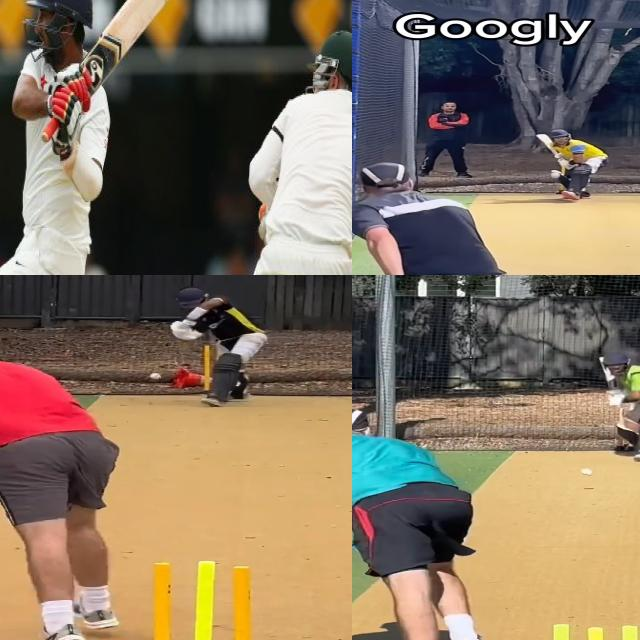Cricket ball: (577, 467, 597, 477), (549, 172, 561, 180), (148, 373, 163, 379)
Stumps: (135, 562, 266, 640)
